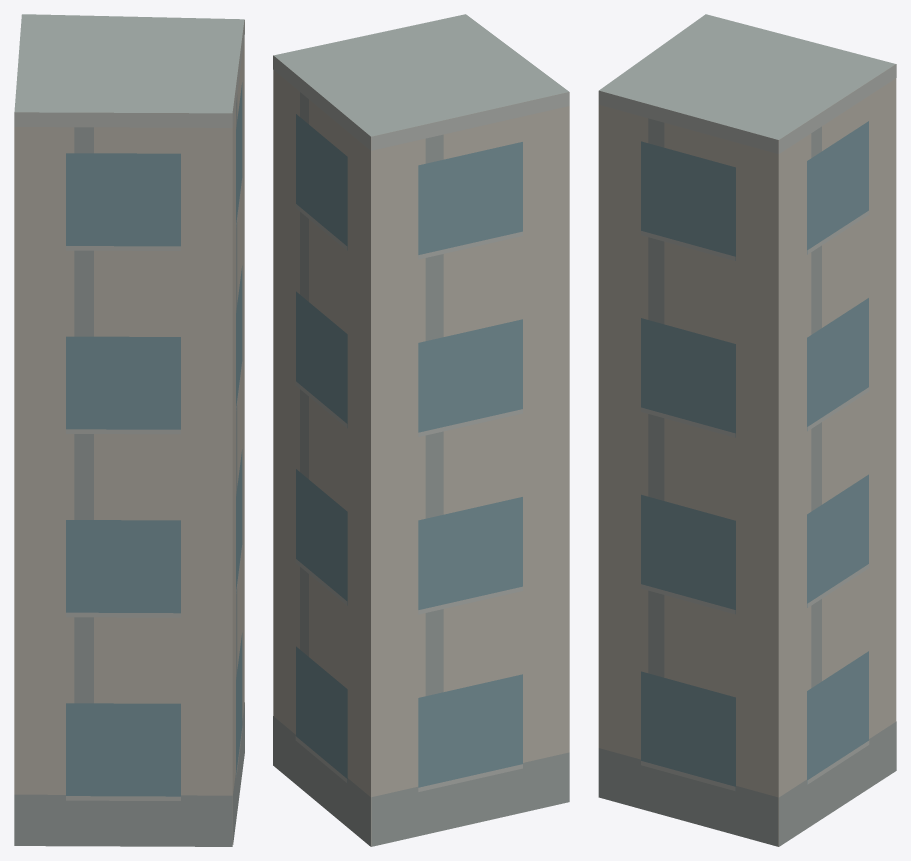
Rendered from survey-upis-32517352.glb.
3 renders of one model, left to right at view 1: azimuth 30°, elevation 25°; view 2: azimuth 150°, elevation 25°; view 3: azimuth 270°, elevation 25°, orthographic. The views are drawn at different scales.
Visible parts, largest first — view 1: survey-upis-32517352.tmp; view 2: survey-upis-32517352.tmp; view 3: survey-upis-32517352.tmp.
Part boxes in pixels (x1,y1,x2,y2): survey-upis-32517352.tmp: (14,14,244,846); survey-upis-32517352.tmp: (273,14,569,846); survey-upis-32517352.tmp: (598,14,896,846).
Bounding box in the file's own units: 4.67 × 12.2 × 4.66.
